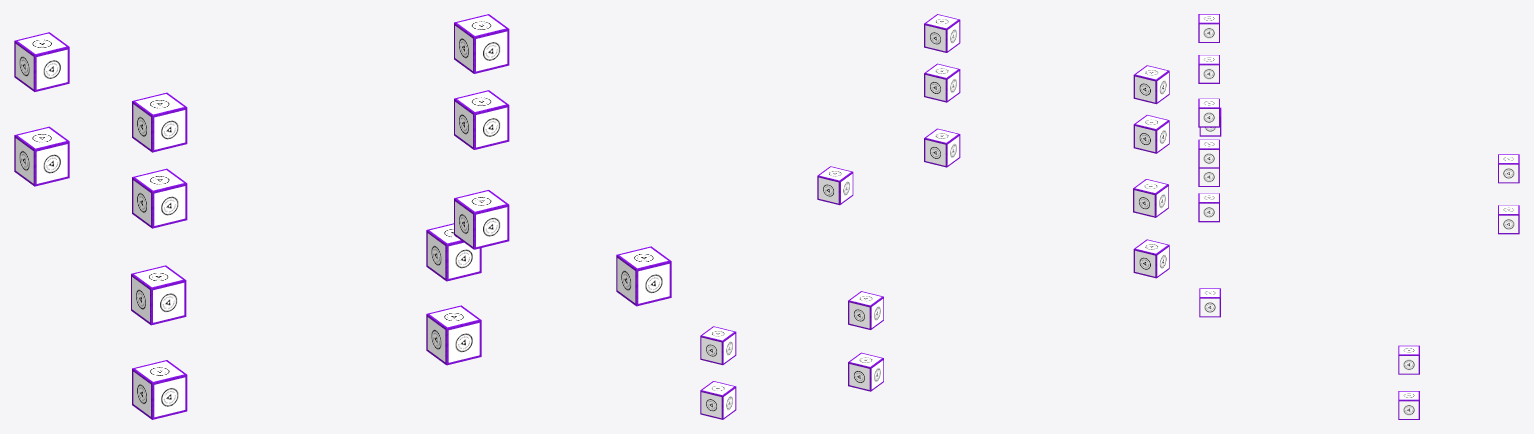
The model's file is SilverCubes.glb.
3 views of the same model, side by side, from view 1: azimuth 30°, elevation 25°; view 2: azimuth 150°, elevation 25°; view 3: azimuth 270°, elevation 25° (orthographic). The views are drawn at different scales.
Visible parts, largest first — view 1: Cube11, Cube13, Cube5, Cube7, Cube9, Cube10, Cube20, Cube14, Cube8, Cube6, Cube12, Cube19; view 2: Cube7, Cube10, Cube12, Cube19, Cube20, Cube5, Cube6, Cube9, Cube8, Cube14, Cube11, Cube13; view 3: Cube5, Cube8, Cube7, Cube6, Cube19, Cube13, Cube14, Cube9, Cube10, Cube20, Cube12.
Part boxes in pixels (box(x1,y1,x2,y2)): Cube11: box(131, 265, 186, 325); Cube13: box(14, 32, 69, 91); Cube5: box(616, 246, 671, 306); Cube7: box(454, 90, 509, 149); Cube9: box(132, 92, 187, 152); Cube10: box(132, 168, 187, 228); Cube20: box(426, 305, 481, 365); Cube14: box(14, 126, 69, 186); Cube8: box(454, 14, 509, 73); Cube6: box(454, 190, 509, 249); Cube12: box(132, 360, 187, 419); Cube19: box(426, 223, 481, 281); Cube7: box(924, 63, 960, 102); Cube10: box(1133, 115, 1169, 153); Cube12: box(1133, 239, 1169, 278); Cube19: box(700, 326, 736, 365); Cube20: box(700, 381, 736, 419); Cube5: box(817, 166, 853, 205); Cube6: box(924, 128, 960, 167); Cube9: box(1133, 65, 1169, 104); Cube8: box(924, 14, 960, 52); Cube14: box(848, 352, 883, 391); Cube11: box(1133, 179, 1168, 217); Cube13: box(848, 291, 883, 329); Cube5: box(1199, 288, 1220, 317); Cube8: box(1198, 98, 1219, 127); Cube7: box(1198, 139, 1219, 168); Cube6: box(1198, 193, 1219, 222); Cube19: box(1398, 345, 1419, 374); Cube13: box(1498, 154, 1519, 183); Cube14: box(1498, 205, 1519, 234); Cube9: box(1198, 14, 1219, 42); Cube10: box(1198, 55, 1219, 83); Cube20: box(1398, 391, 1419, 419); Cube12: box(1198, 168, 1219, 186).
Size of what is drawn, in the model's own units: 51.88 by 47.9 by 51.55.
Materials: 13 (12 with a texture image).
